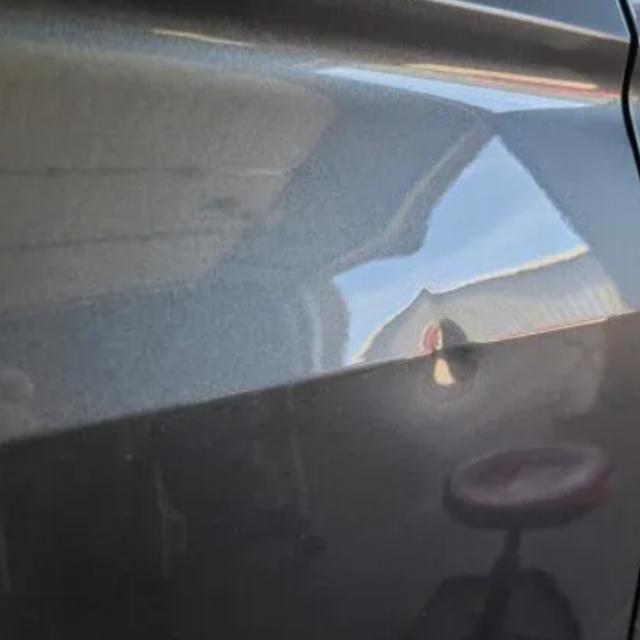dents: (412, 301, 496, 394)
